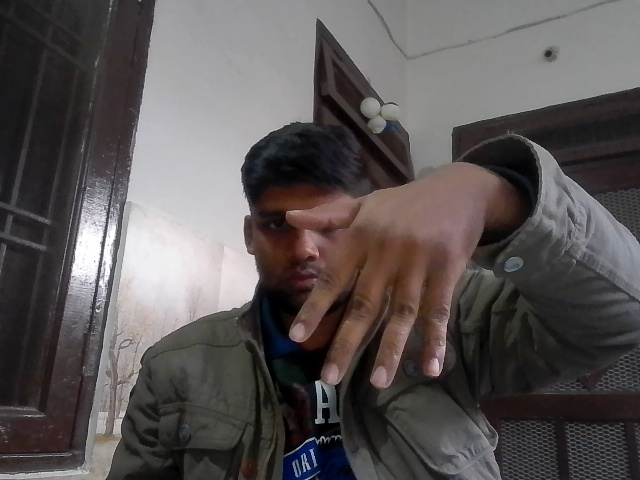HowAreYou: (286, 169, 476, 388)
